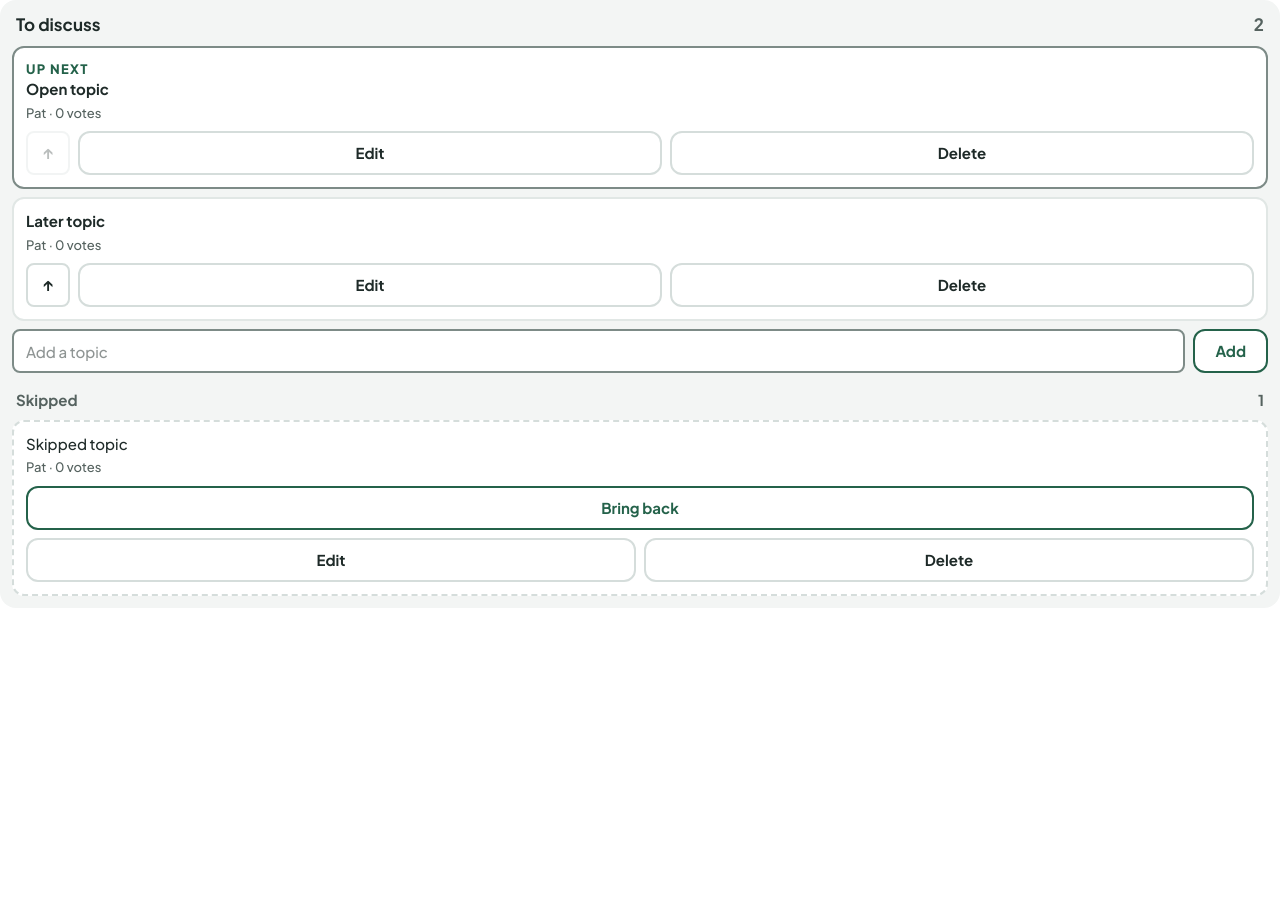
Test: QueueColumn › closes an open editor when the facilitator role moves away
Step 1. Click the button named "Edit \"Open topic\"" → (370, 153), box [78,131,662,175]
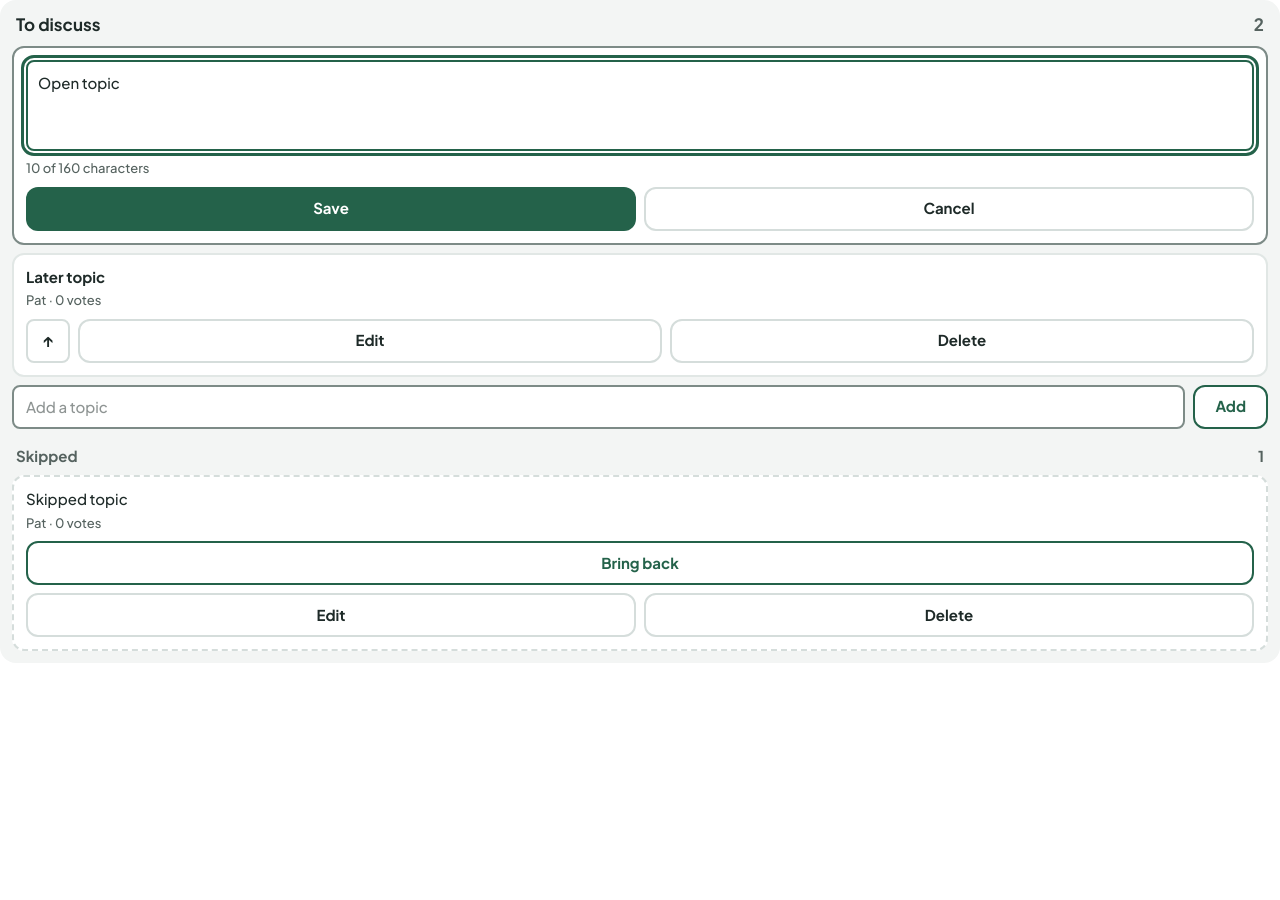
Now the text box named "Edit topic" is shown, box [26,60,1254,151]
